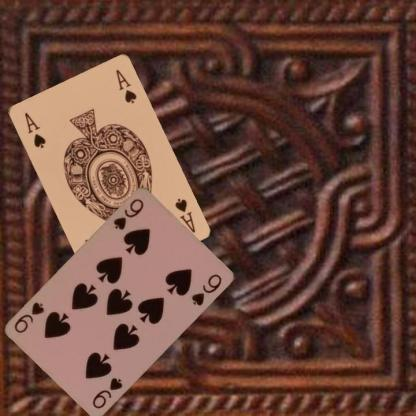9s: (110, 196, 145, 233), (90, 374, 124, 410)
As: (21, 110, 47, 150), (172, 195, 196, 234)
